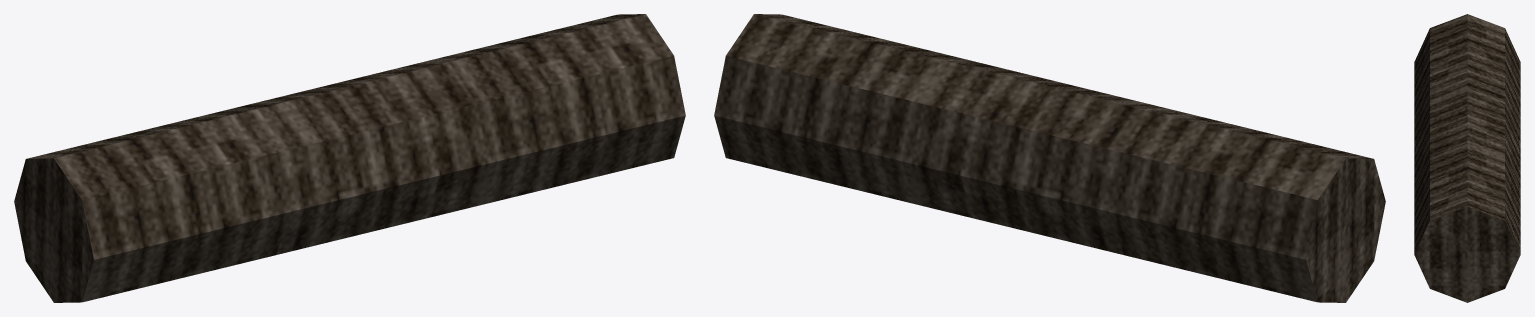
File: ENV_F_Log.fbx
3 renders of one model, left to right at view 1: azimuth 30°, elevation 25°; view 2: azimuth 150°, elevation 25°; view 3: azimuth 270°, elevation 25°, orthographic. The views are drawn at different scales.
Parts seen in each view (by area): view 1: PH02_ENV_F_Log; view 2: PH02_ENV_F_Log; view 3: PH02_ENV_F_Log.
Boxes of the visible parts, x1,y1,x2,y2 form: PH02_ENV_F_Log: (14,14,685,302); PH02_ENV_F_Log: (714,14,1385,302); PH02_ENV_F_Log: (1414,14,1520,302).
Bounding box in the file's own units: 300 × 70 × 70.
1 material, 1 textured.
